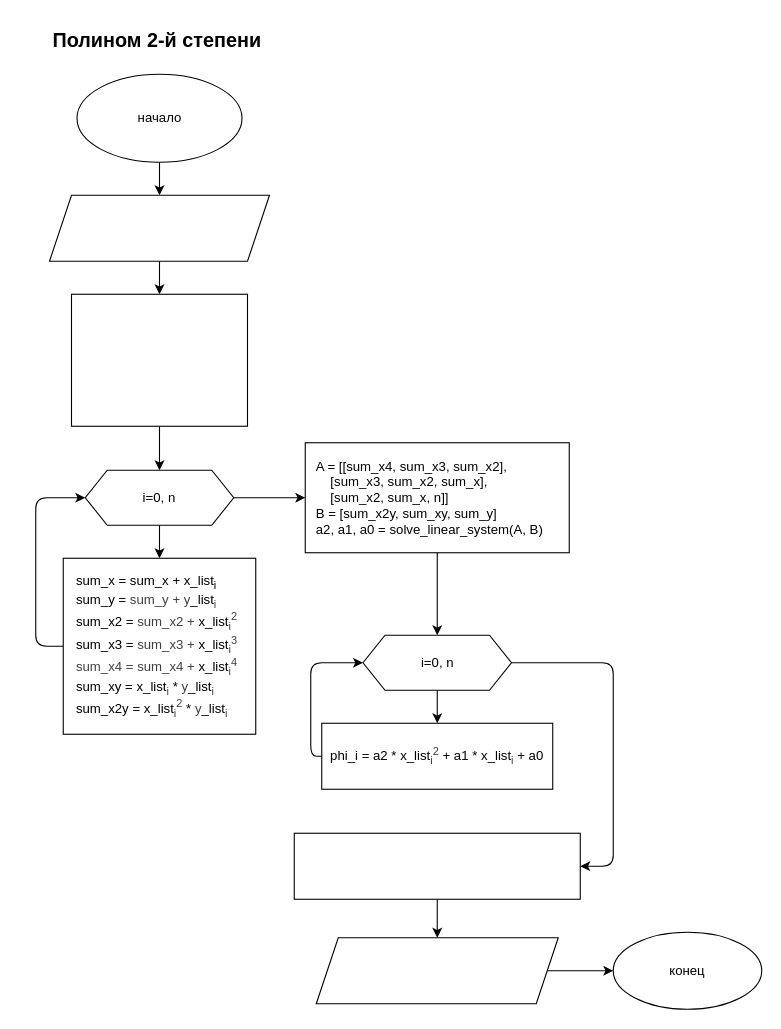
Some shapes in this 781 by 1029 pixel diagram are drawn without their labels. Each missing label, with the centre of its shape:
"n, x_list, y_list" belongs at (x=159, y=227).
"S, delta, R2 = calculate_metrics(phi, y_list, n)" belongs at (x=436, y=865).
"sum_x = 0 sum_y = 0 sum_x2 = 0 sum_x3 = 0 sum_x4 = 0 sum_xy = 0 sum_x2y = 0" belongs at (x=159, y=359).
"Вывод: [a2, a1, a0], phi, S, delta, R2" belongs at (x=436, y=970).
